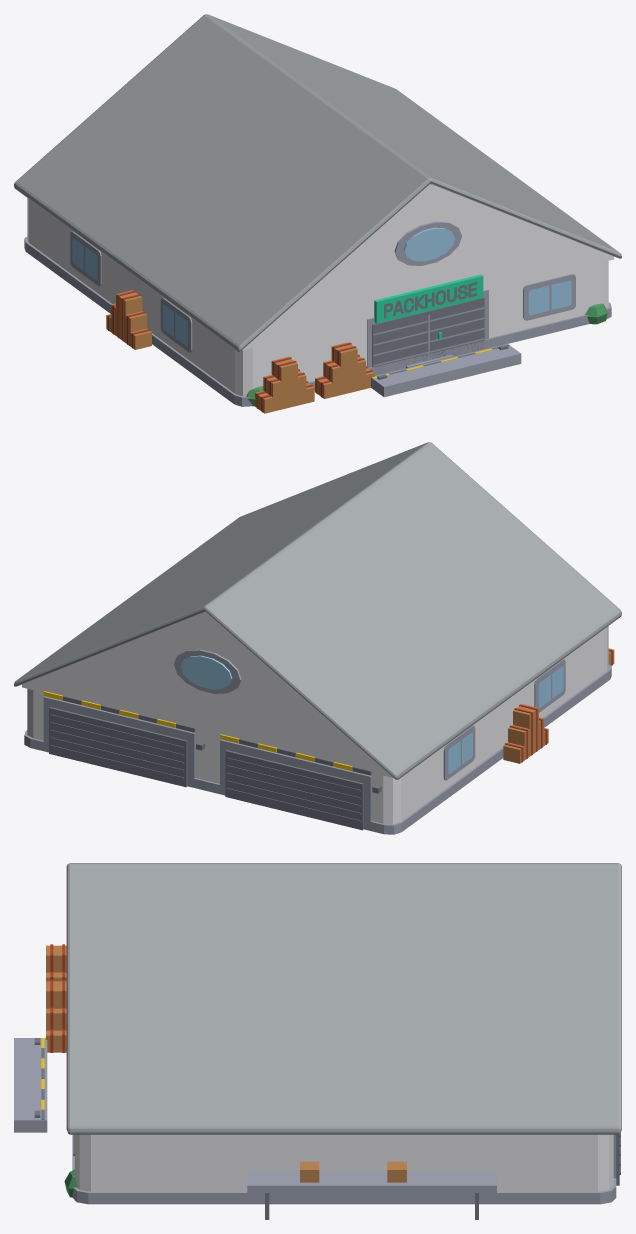
File: packhouse-2x2-t3-tone-a.glb
3 renders of one model, top to bottom at view 1: azimuth 30°, elevation 25°; view 2: azimuth 150°, elevation 25°; view 3: azimuth 270°, elevation 25°, orthographic. The views are drawn at different scales.
Visible parts, largest first — view 1: packhouse-2x2-t3-tone-a; view 2: packhouse-2x2-t3-tone-a; view 3: packhouse-2x2-t3-tone-a.
Boxes of the visible parts, <box> form: packhouse-2x2-t3-tone-a: <box>14,14,621,413</box>; packhouse-2x2-t3-tone-a: <box>14,442,621,834</box>; packhouse-2x2-t3-tone-a: <box>14,863,621,1219</box>.
Bounding box in the file's own units: 2.16 × 0.9066 × 2.19.
1 material, 1 textured.
